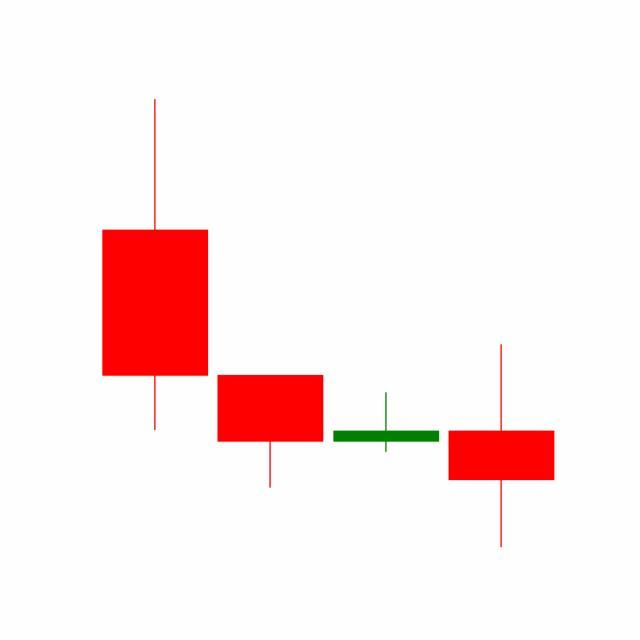Spinning Top: (329, 392, 445, 454)
